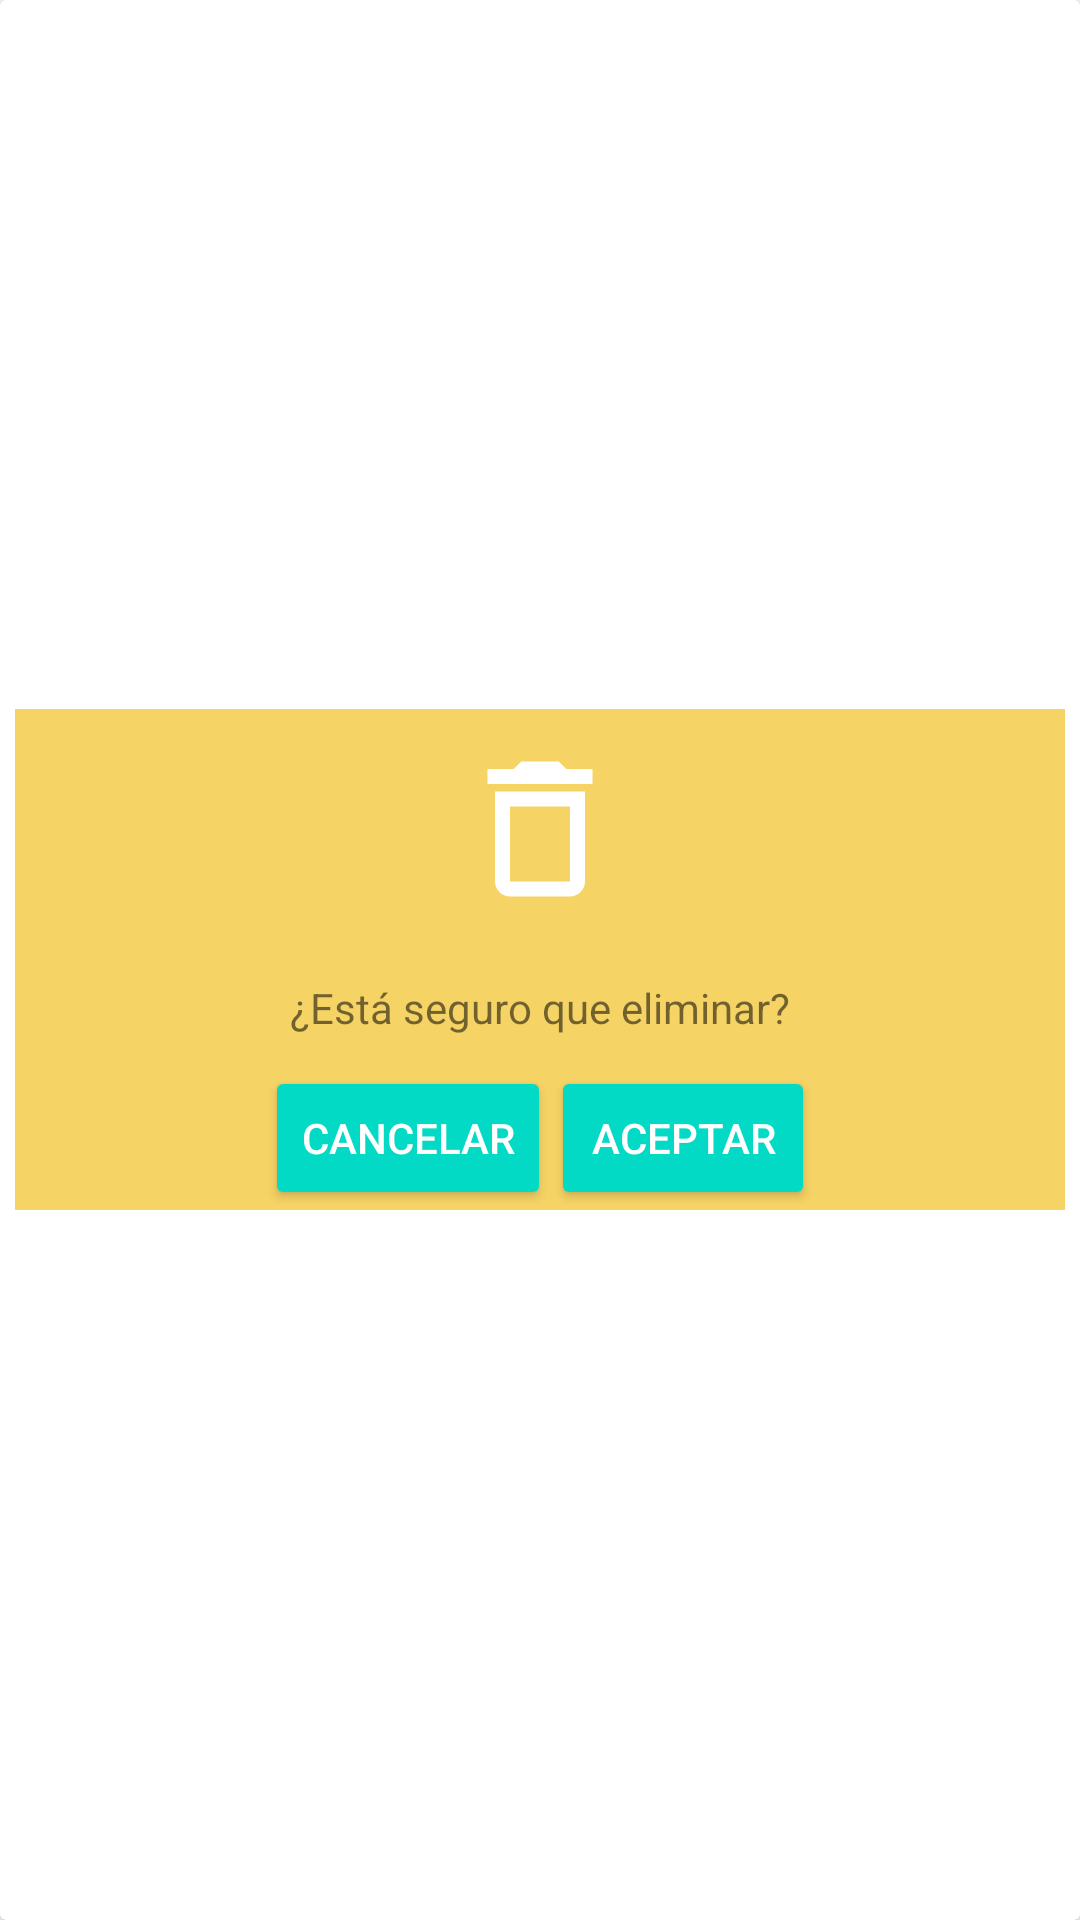

Where icons sit on this 1080 × 1920 app screen, as [x1,y1,x2,y2]:
delete: [487,761,593,897]
